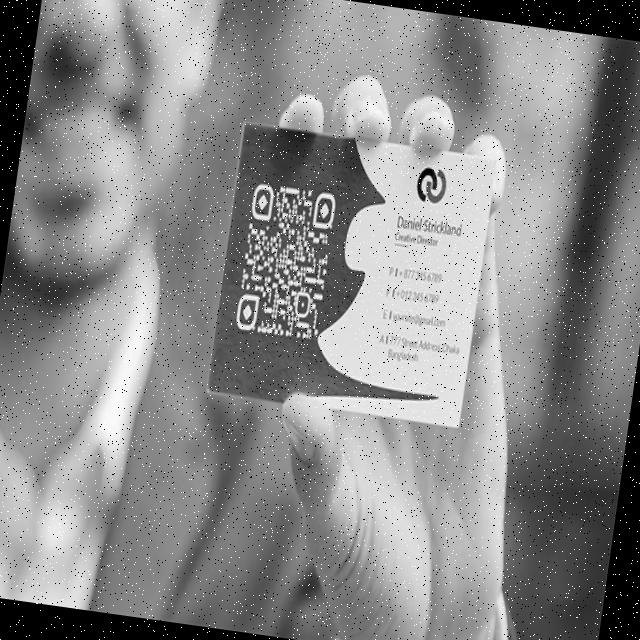QR-codes: (234, 179, 338, 343)
